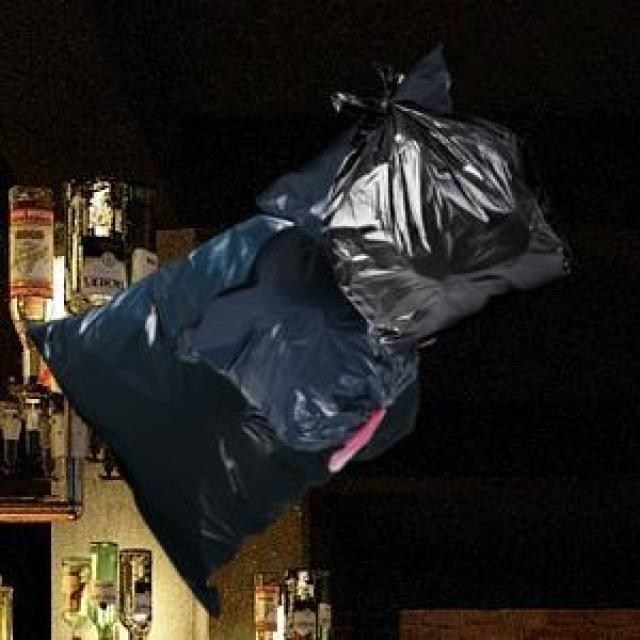Vinyl: (30, 50, 570, 607)
